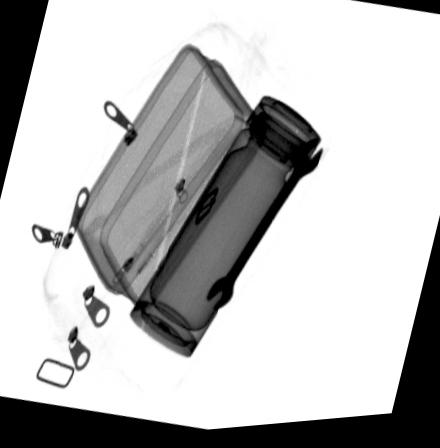Wrench: (203, 141, 326, 317)
